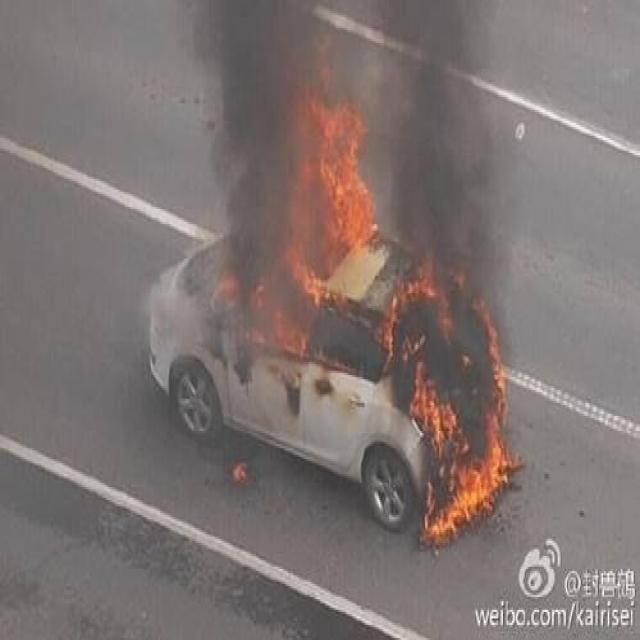Fire: (211, 34, 374, 373), (378, 254, 522, 545)
Smoke: (188, 2, 330, 336), (378, 2, 504, 377)
